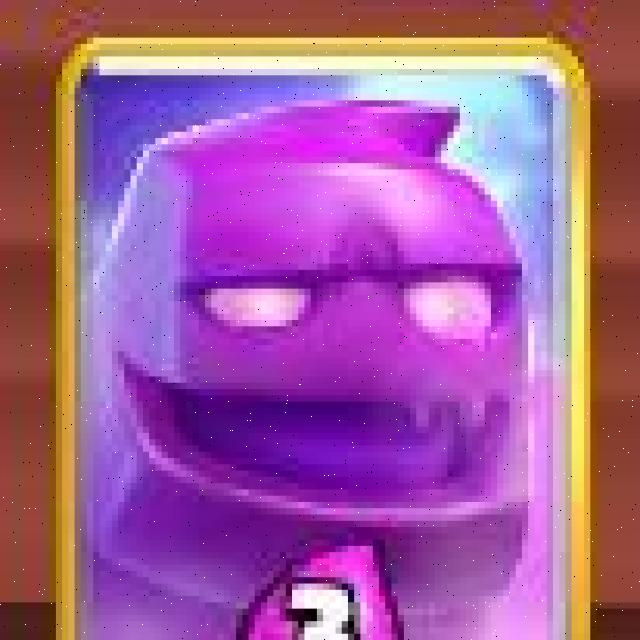Elixir_Golem: (56, 39, 591, 640)
